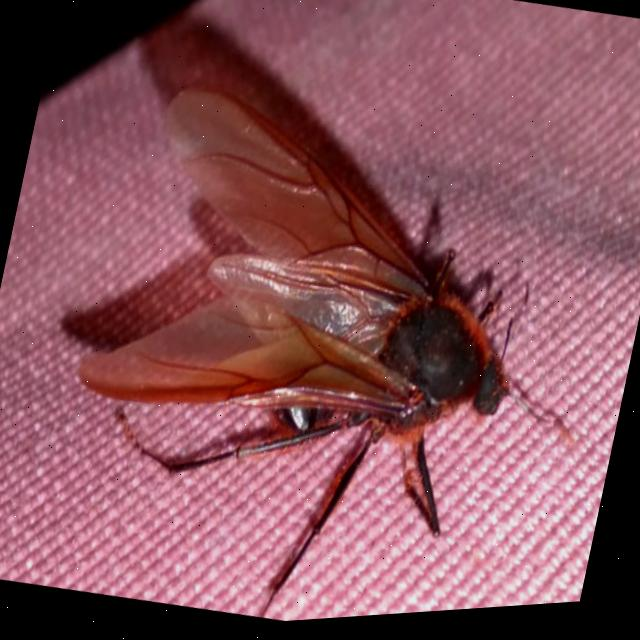Alive-Male-Alate: (32, 48, 638, 638)
